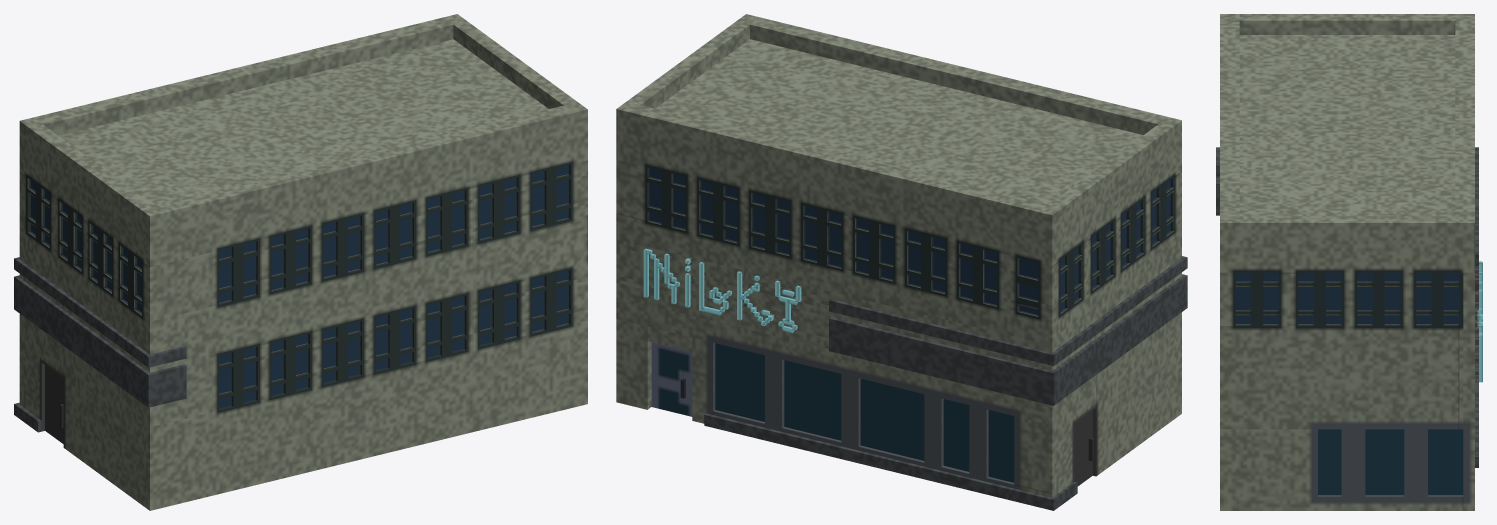
File: bar_mleczny.dae
3 renders of one model, left to right at view 1: azimuth 30°, elevation 25°; view 2: azimuth 150°, elevation 25°; view 3: azimuth 270°, elevation 25°, orthographic. The views are drawn at different scales.
Parts seen in each view (by area): view 1: Content; view 2: Content; view 3: Content.
Boxes of the visible parts, x1,y1,x2,y2 form: Content: [14, 14, 587, 510]; Content: [616, 14, 1187, 510]; Content: [1216, 14, 1482, 510].
Bounding box in the file's own units: 127 × 81 × 68.
1 material, 1 textured.
